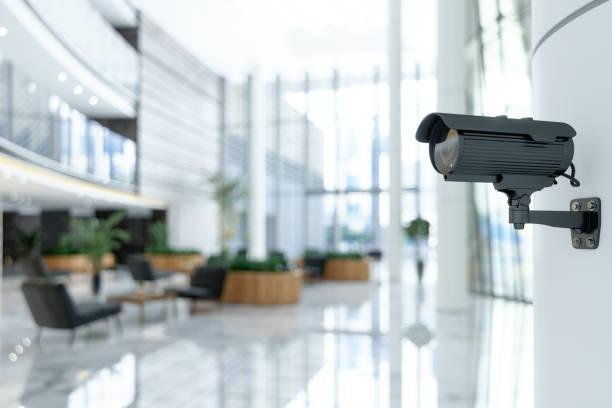camera: (389, 84, 594, 227)
